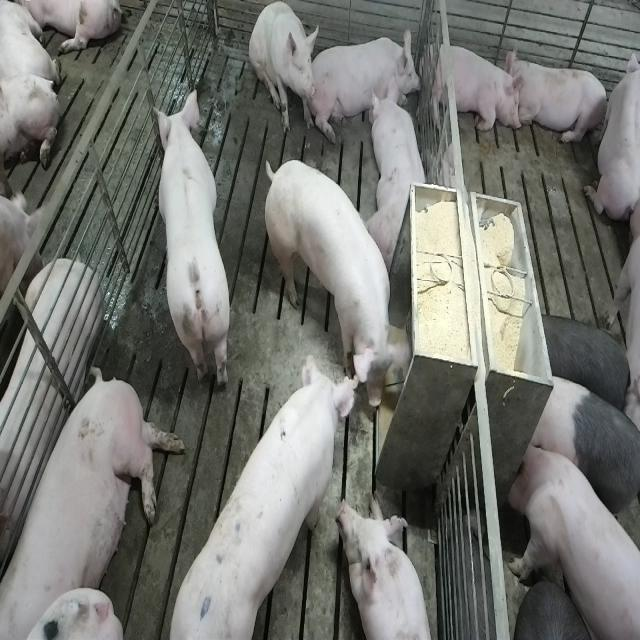Lateral_lying: (0, 366, 186, 640)
Sitting: (249, 0, 318, 130)
Standing: (170, 349, 356, 640), (261, 156, 409, 410), (510, 439, 640, 640), (153, 88, 230, 391), (534, 378, 640, 516)
Sternal_lying: (0, 253, 104, 552), (336, 493, 435, 640), (307, 19, 422, 142), (366, 89, 428, 263), (504, 44, 607, 144), (585, 51, 640, 232), (428, 41, 520, 141)
